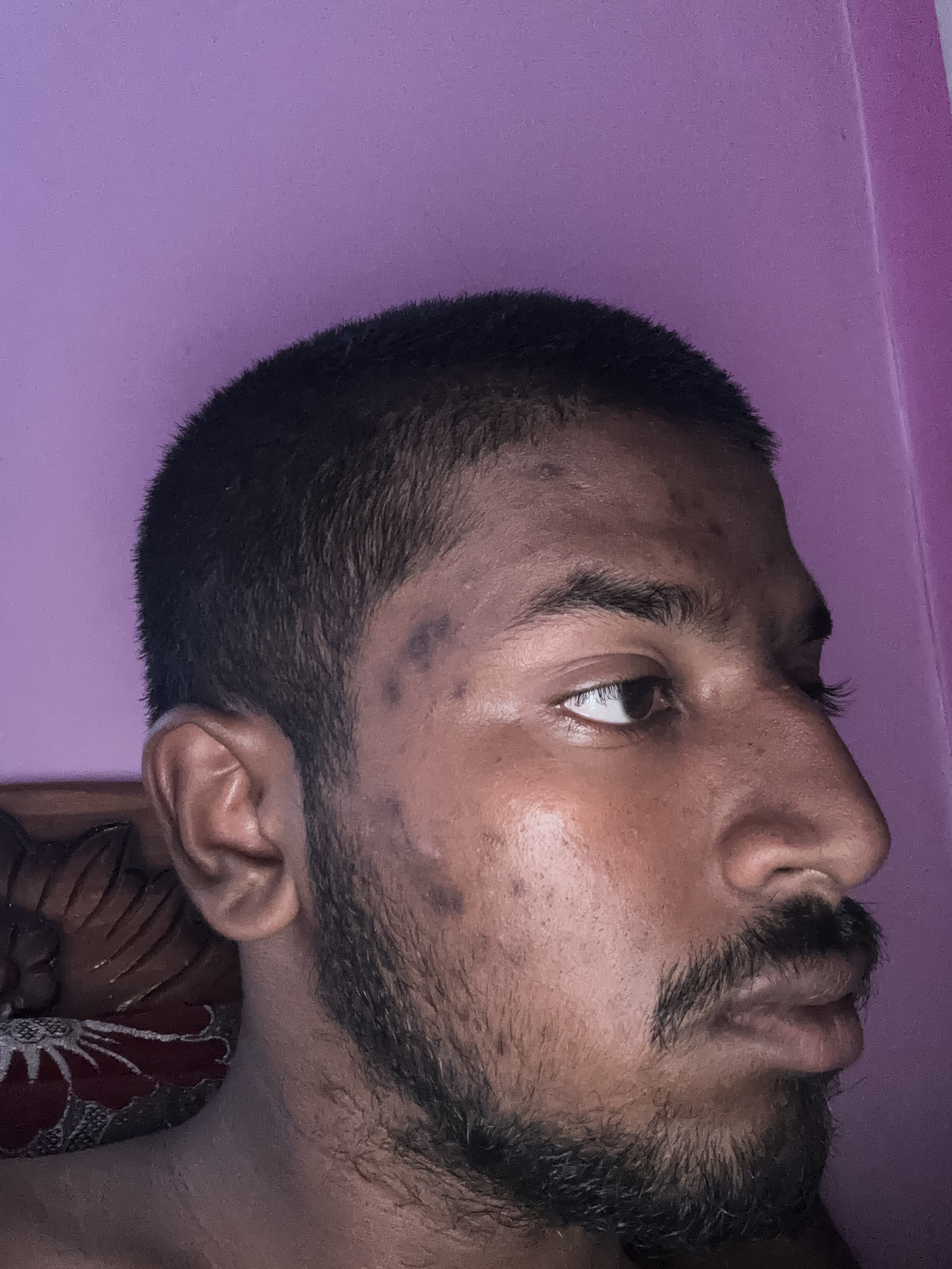closed_comedone: (764, 709, 819, 755)
cyst: (425, 837, 450, 866)
pustule: (781, 682, 793, 693)
